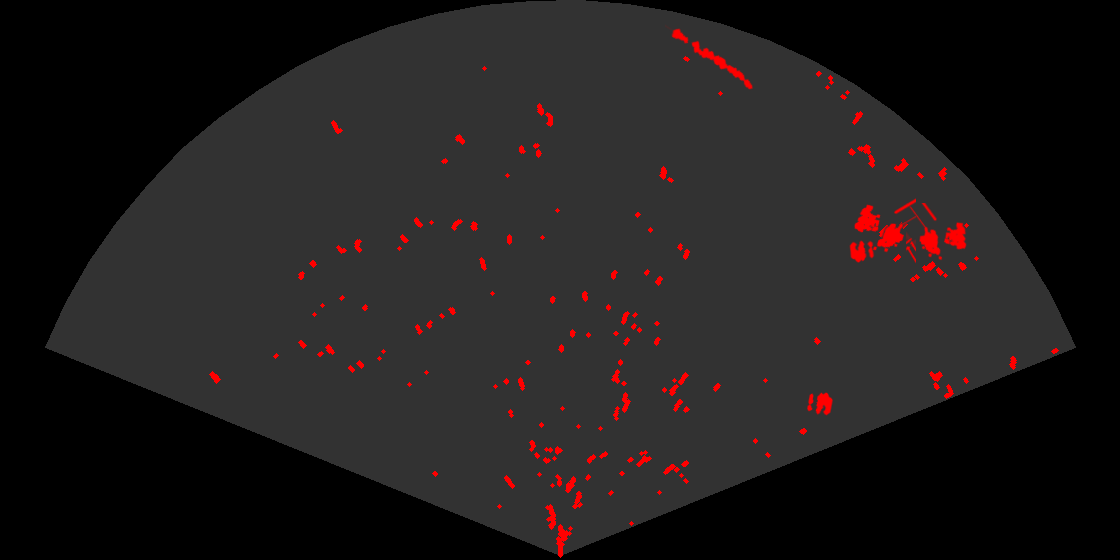ball: (806, 391, 834, 417), (848, 239, 876, 264)
cage: (853, 197, 916, 265), (906, 203, 968, 262)
chain: (665, 23, 755, 91)
